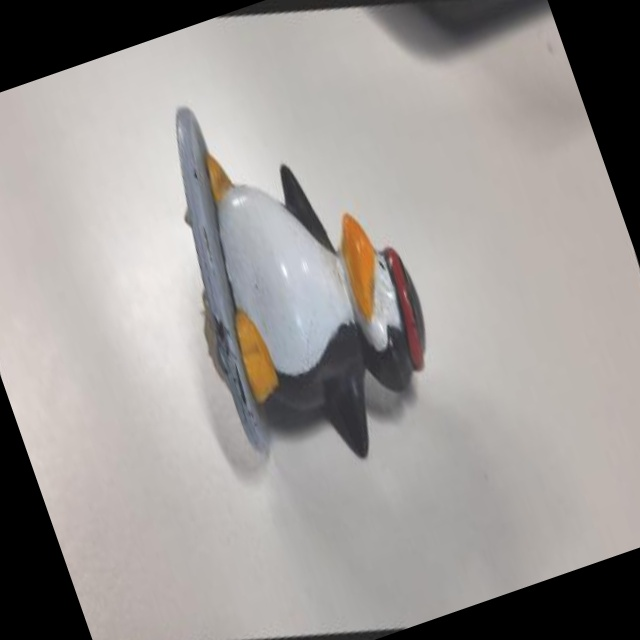Penguin: (105, 18, 495, 534)
